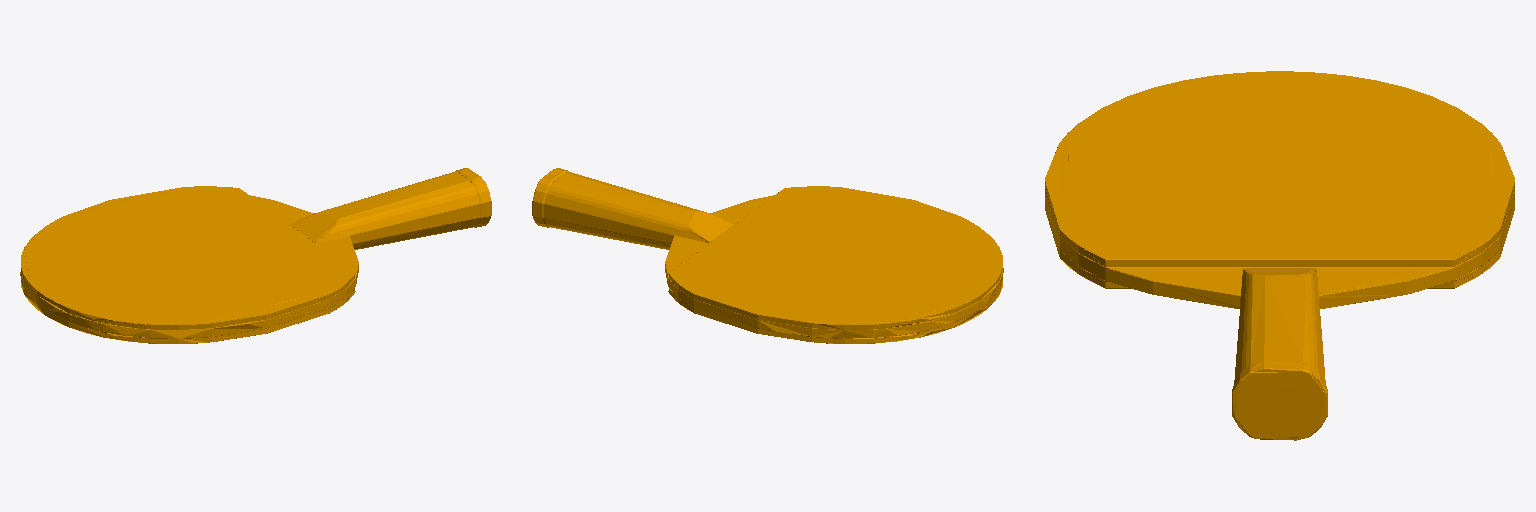
URDF robot description (racket):
<?xml version="1.0" ?>
<robot name="racket">
  <link name="baseLink">
    <visual>
      <origin rpy="0 0 0" xyz="0.15 0 0"/>
      <geometry>
        <mesh filename="model.stl"/>
      </geometry>
    </visual>
    <collision>
      <origin rpy="0 0 0" xyz="0.15 0 0"/>
      <geometry>
        <mesh filename="model.stl"/>
      </geometry>
    </collision>
    <inertial>
      <origin xyz="0 0 0" rpy="0 0 0"/>
      <mass value="0.20"/>
      <inertia ixx="0.00144666666667" ixy="0" ixz="0" iyy="0.00144666666667" iyz="0" izz="0.00289"/>
    </inertial>
  </link>
</robot>
<!-- There seems to be a problem with the surface of the racket, it is not perfectly normal to the axis.  -->

--- Render facts (derived) ---
Views: 3 orthographic renders of the robot side by side, from view 1: azimuth 30°, elevation 25°; view 2: azimuth 150°, elevation 25°; view 3: azimuth 270°, elevation 25°.
Robot: racket — 1 links, 0 joints (none); root link baseLink; default pose: every joint at zero.
Links seen in each view (by area): view 1: baseLink; view 2: baseLink; view 3: baseLink.
Link boxes in pixels (box(x1,y1,x2,y2)): baseLink: box(20, 168, 491, 343); baseLink: box(532, 168, 1003, 343); baseLink: box(1045, 71, 1514, 440).
Bounding box of the posed robot: 0.2603 × 0.1623 × 0.0274 m (x, y, z).
1 mesh visuals loaded from 1 distinct referenced files (1 binary STL).
